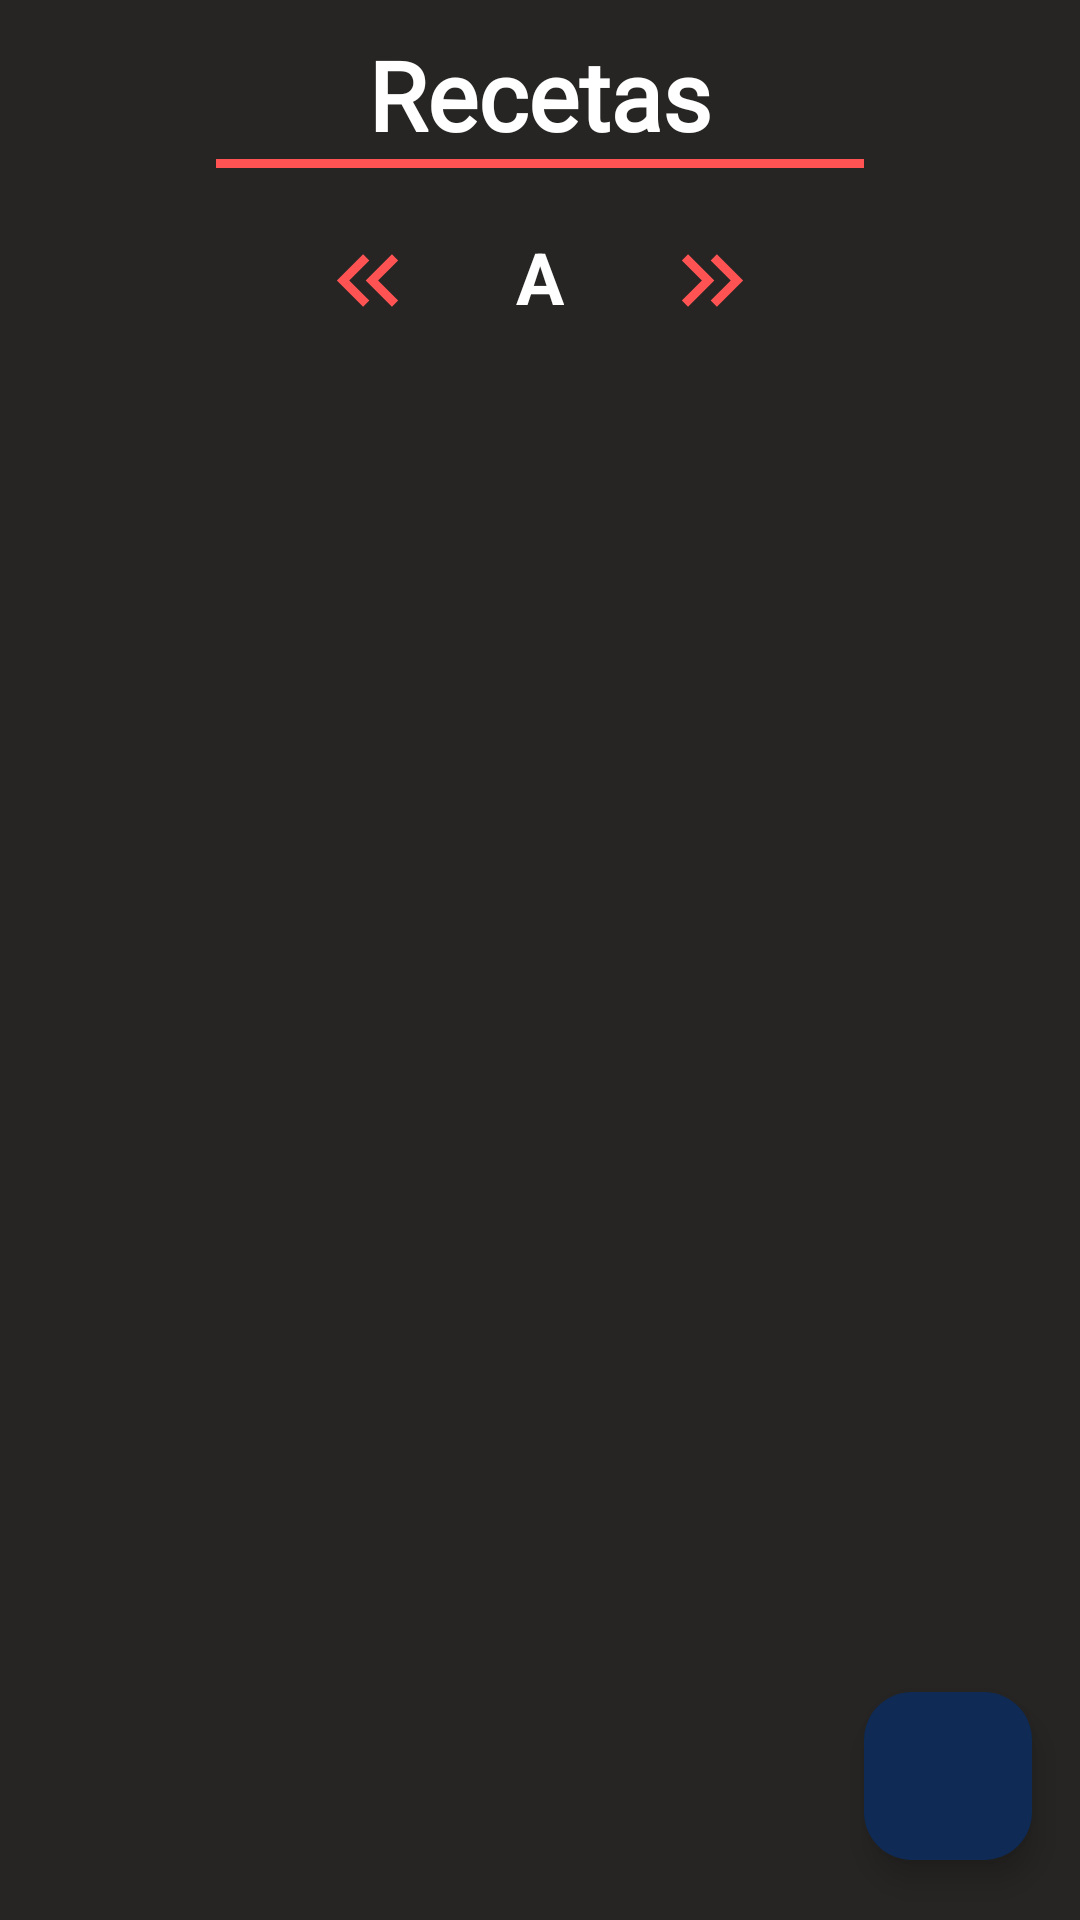

Screen size 1080 x 1920. Icon name, then its box in pixels as (x1, y1, x2, y2):
double arrow left: (337, 254, 398, 307)
double arrow right: (682, 254, 743, 307)
